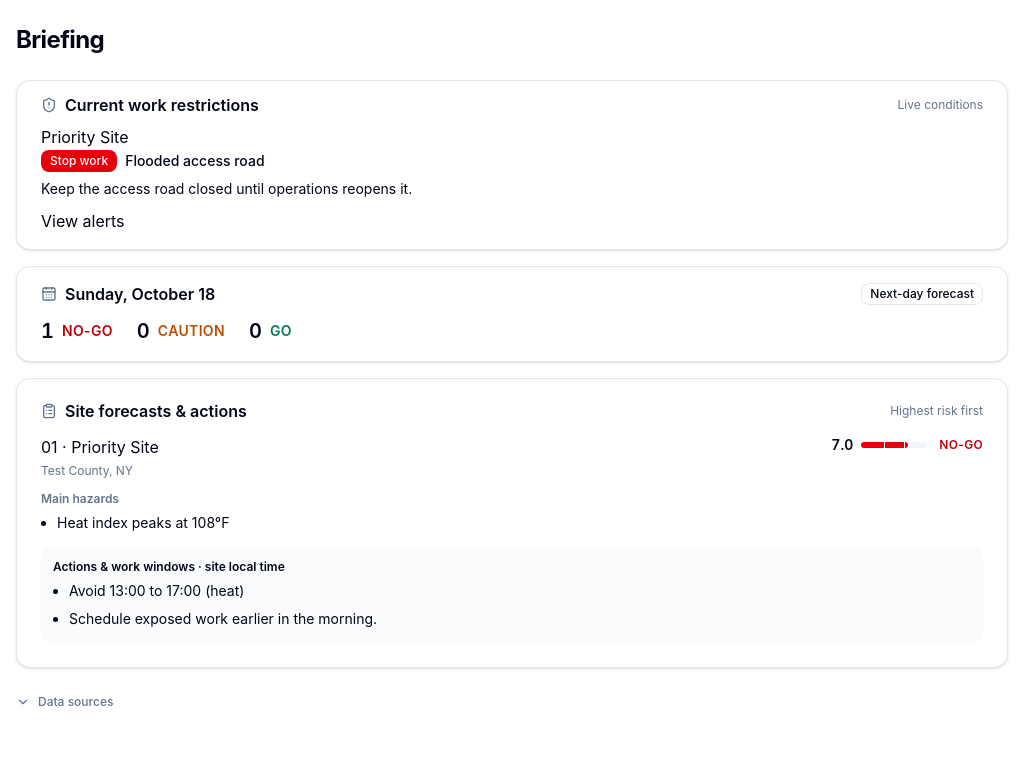
Briefing scope › keeps the title, risk reasons, supplied work periods and practical actions without coverage or archive controls
expect the heading "Briefing" is shown: met, box 16,24 -> 104,56
expect the list item "Heat index peaks at 108°F" is shown: met, box 57,514 -> 230,531
Click the heading "Data sources" at [65, 702], box 16,694 -> 113,709
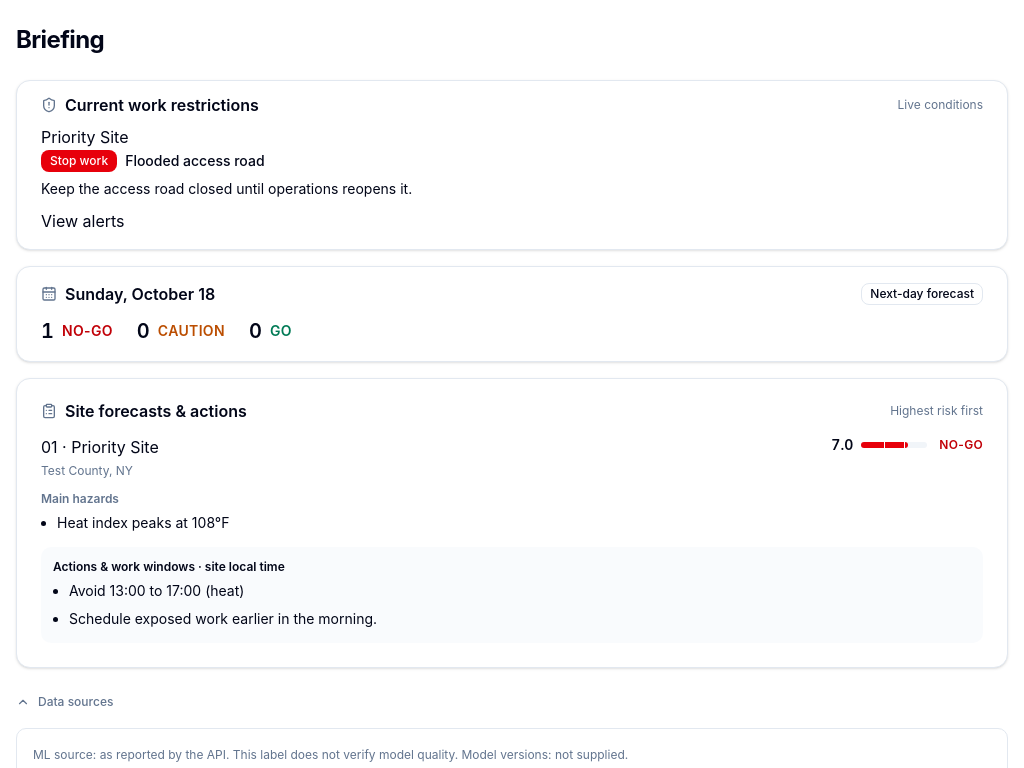
expect the text "ML source: as reported by the API" is shown: met, box 33,747 -> 552,762
